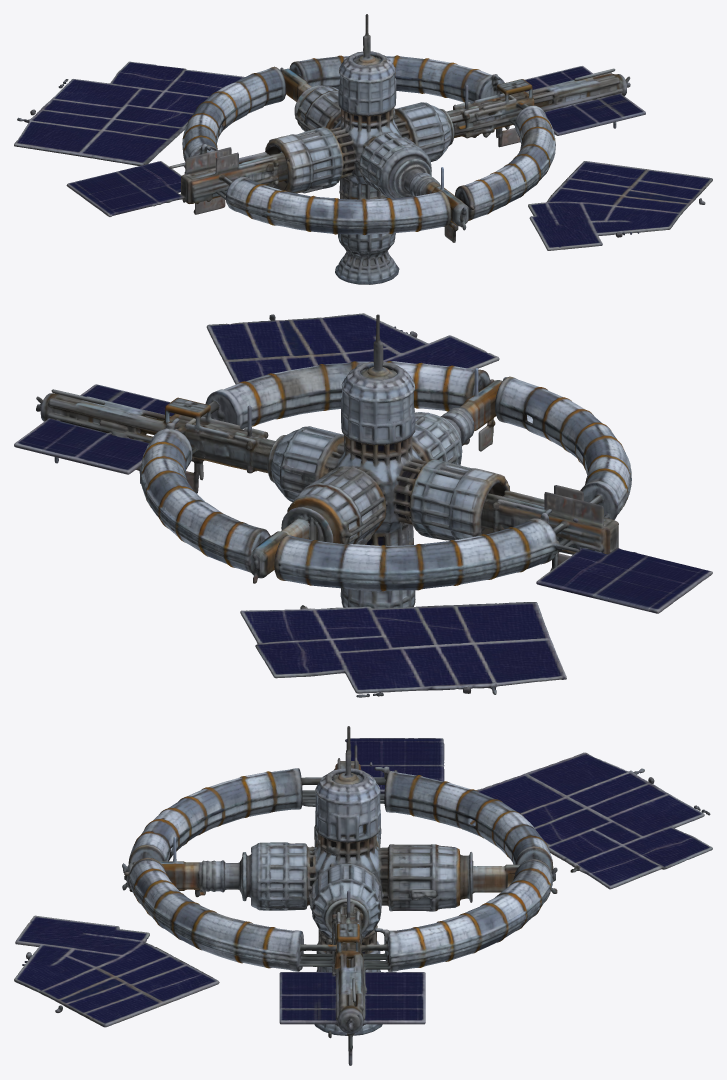
Rendered from helios_station.glb.
The picture shows the model from 3 angles, top to bottom: view 1: azimuth 30°, elevation 25°; view 2: azimuth 150°, elevation 25°; view 3: azimuth 270°, elevation 25°; orthographic projection. The views are drawn at different scales.
Parts seen in each view (by area): view 1: station; view 2: station; view 3: station.
Part boxes in pixels (left/top/right/bottom): station: left=14, top=14, right=712, bottom=284; station: left=14, top=313, right=712, bottom=697; station: left=14, top=726, right=712, bottom=1065.
Bounding box in the file's own units: 34 × 16 × 34.38.
Materials: 1 (1 with a texture image).
